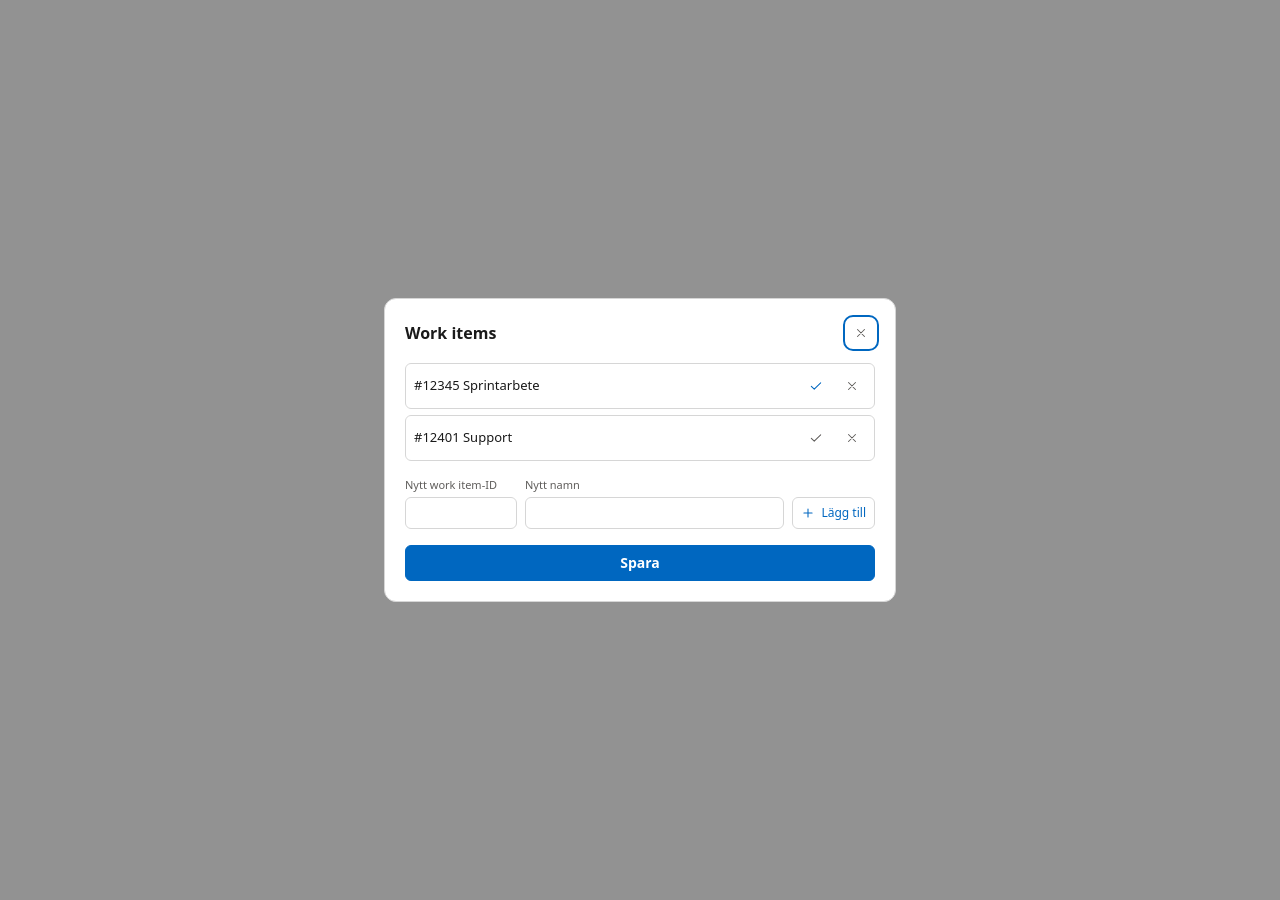
WorkItemsDialog › keeps the dialog open while a save is pending, then shows the error on failure
Step 1. Click the button "Spara" → {"x": 640, "y": 563}, box x1=405 y1=545 x2=875 y2=581
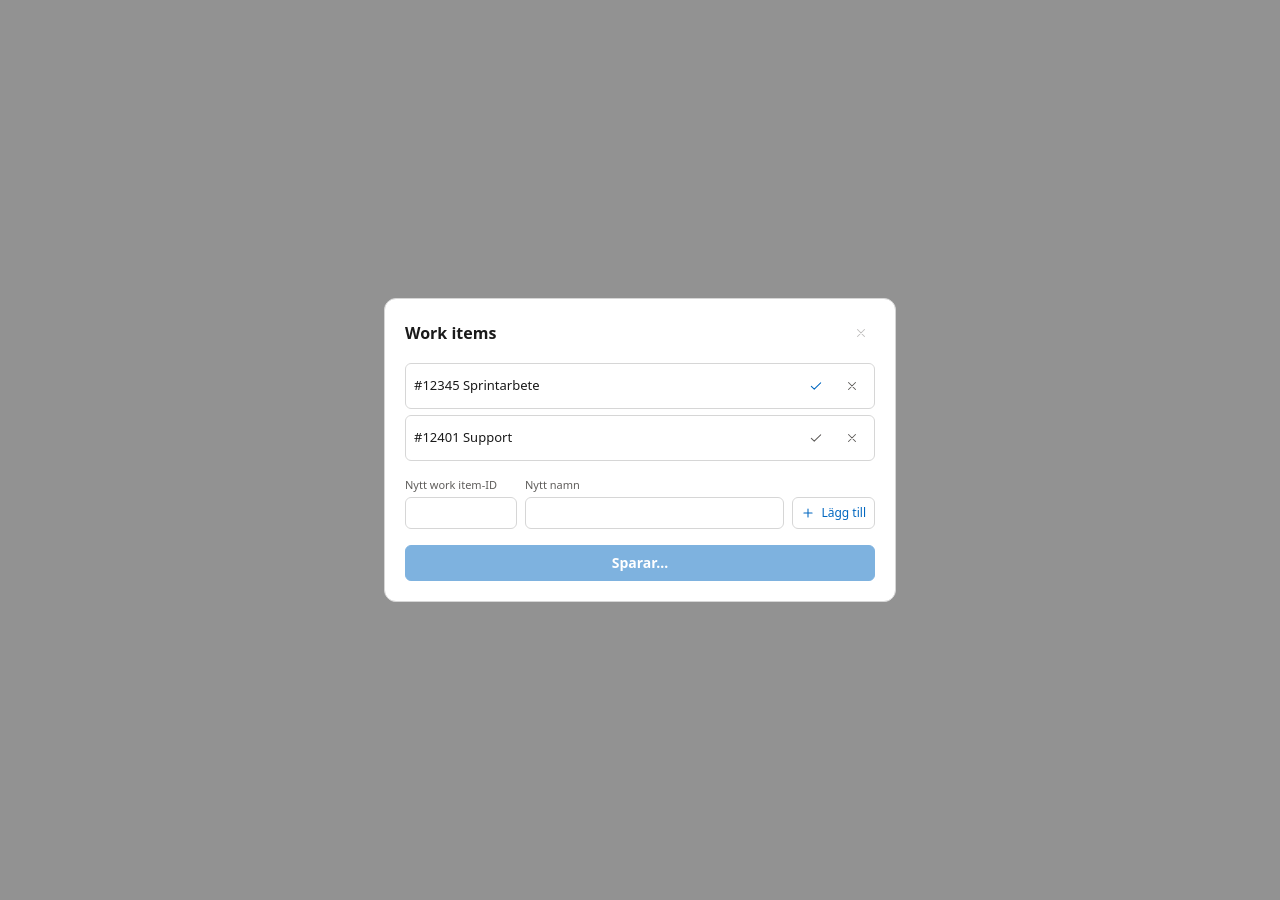
Step 2. Press Escape
Step 3. Click the button named "Stäng" → {"x": 861, "y": 333}, box x1=847 y1=319 x2=875 y2=347
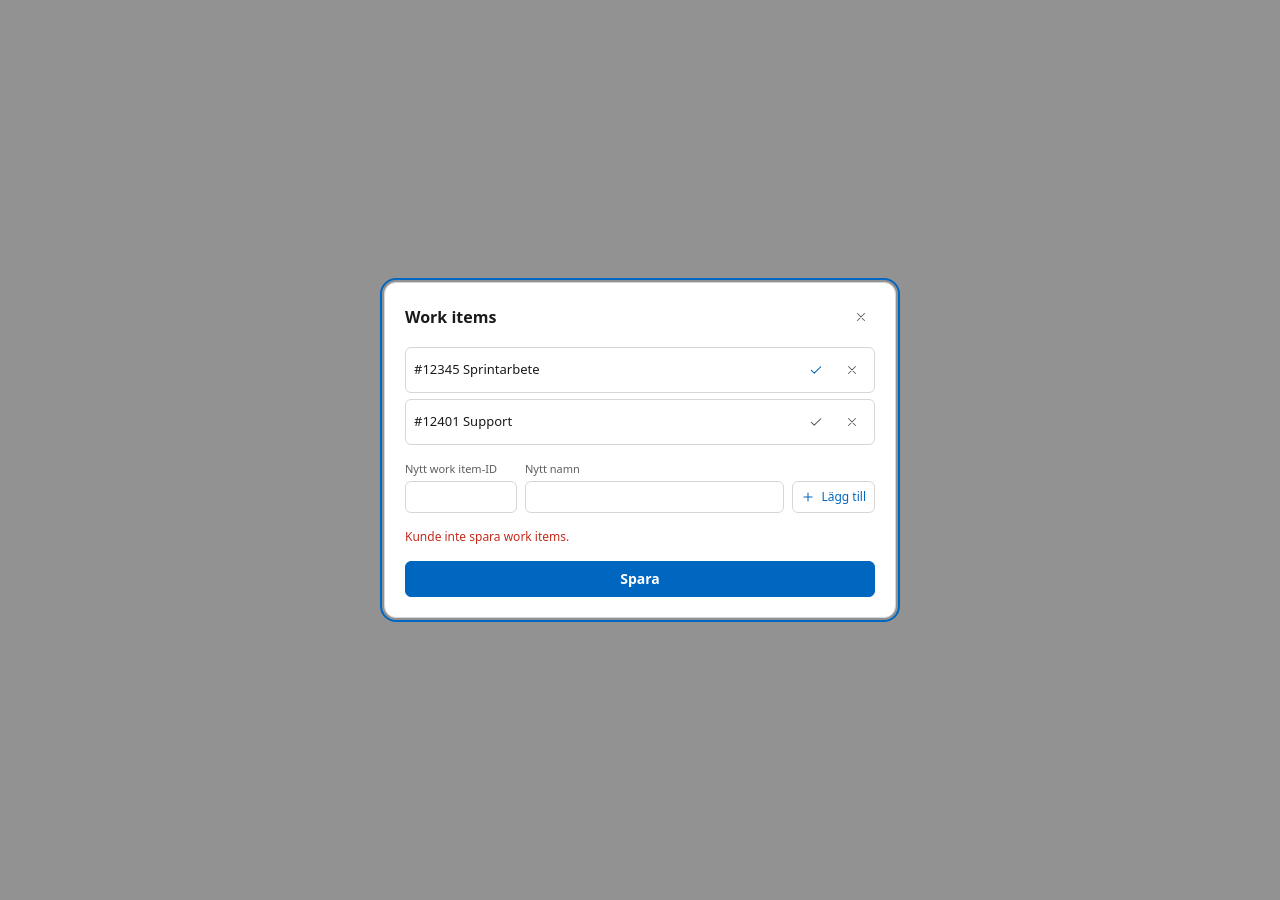
Result: the text "Kunde inte spara work items." is shown at x1=405 y1=528 x2=569 y2=545
